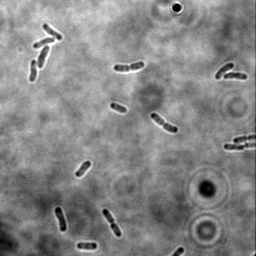Dividing: (150, 110, 180, 135), (101, 207, 124, 238), (113, 60, 146, 74), (222, 140, 255, 151), (231, 133, 255, 145)
Rod: (42, 22, 64, 41), (53, 206, 68, 233), (36, 44, 52, 69), (215, 61, 236, 80), (74, 160, 92, 180), (32, 36, 56, 49), (109, 101, 129, 115), (28, 59, 39, 83), (223, 72, 249, 81), (76, 241, 98, 251)
